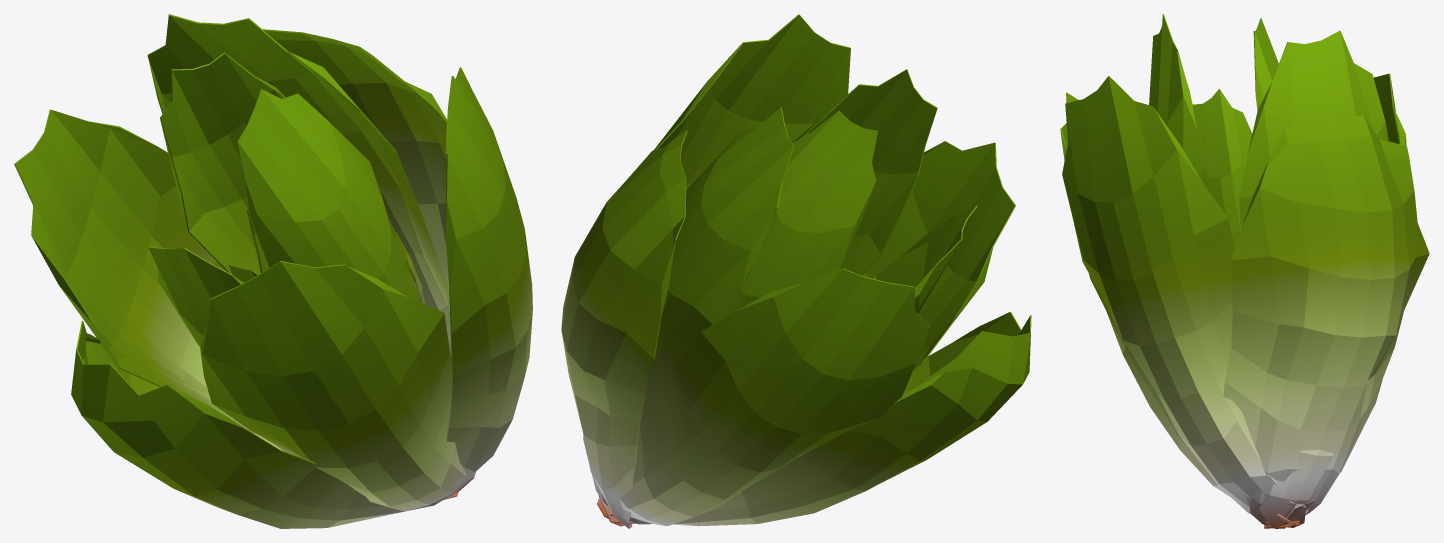
File: Lettuce.fbx
3 renders of one model, left to right at view 1: azimuth 30°, elevation 25°; view 2: azimuth 150°, elevation 25°; view 3: azimuth 270°, elevation 25°, orthographic. The views are drawn at different scales.
Parts seen in each view (by area): view 1: Lettuce; view 2: Lettuce; view 3: Lettuce.
Part boxes in pixels (bbox=[...]): Lettuce: bbox=[14, 14, 532, 528]; Lettuce: bbox=[561, 14, 1031, 528]; Lettuce: bbox=[1060, 14, 1429, 528].
Bounding box in the file's own units: 0.2257 × 0.2498 × 0.1993.
Materials: 1 (1 with a texture image).
